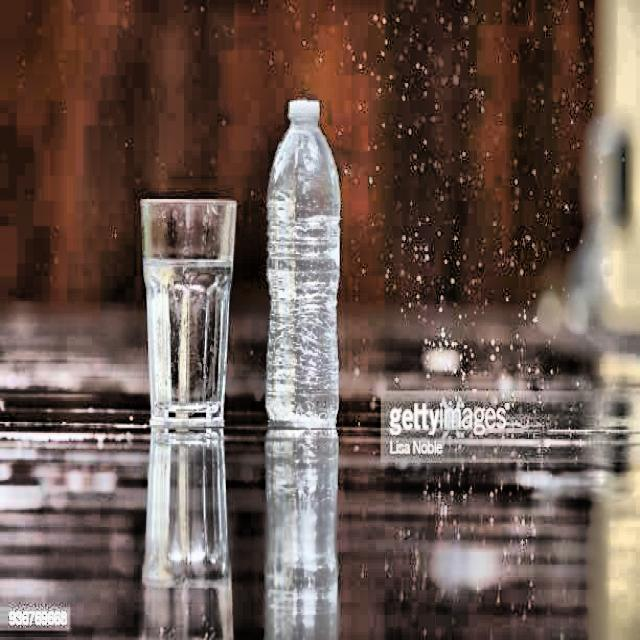Bottles: (260, 74, 353, 447)
